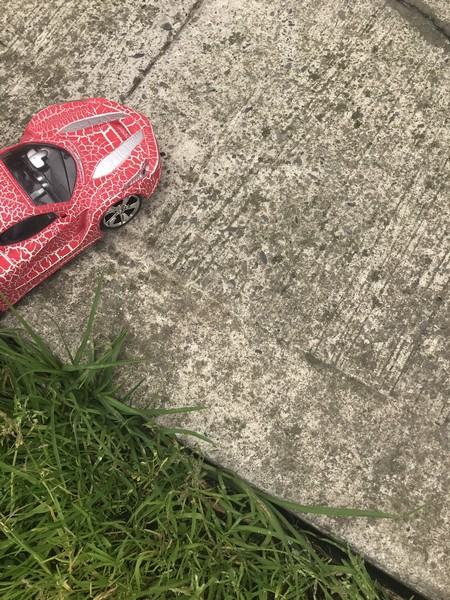RC: (1, 96, 166, 319)
